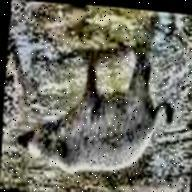boar: (23, 41, 186, 191)
